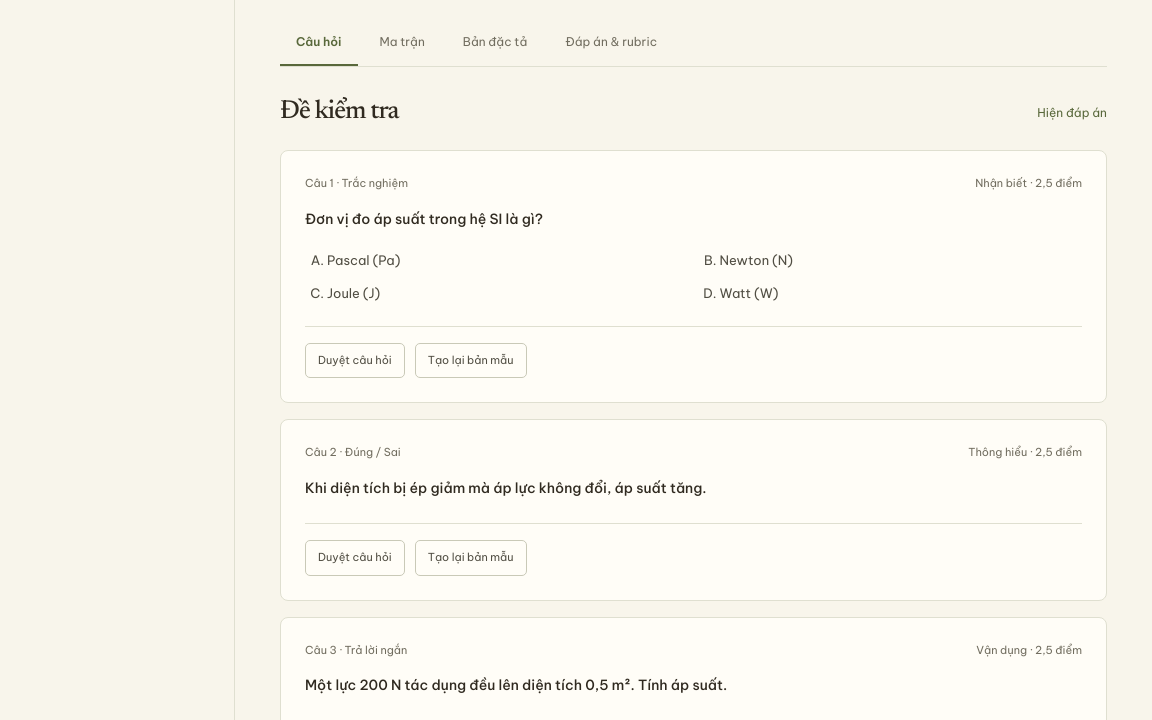
it: public demo workflow › replaces a regenerated question with another local sample and asks for approval again
(page scrolled)
Click the button "Duyệt câu hỏi" below "Joule (J)": (355, 360) [305,343,405,378]
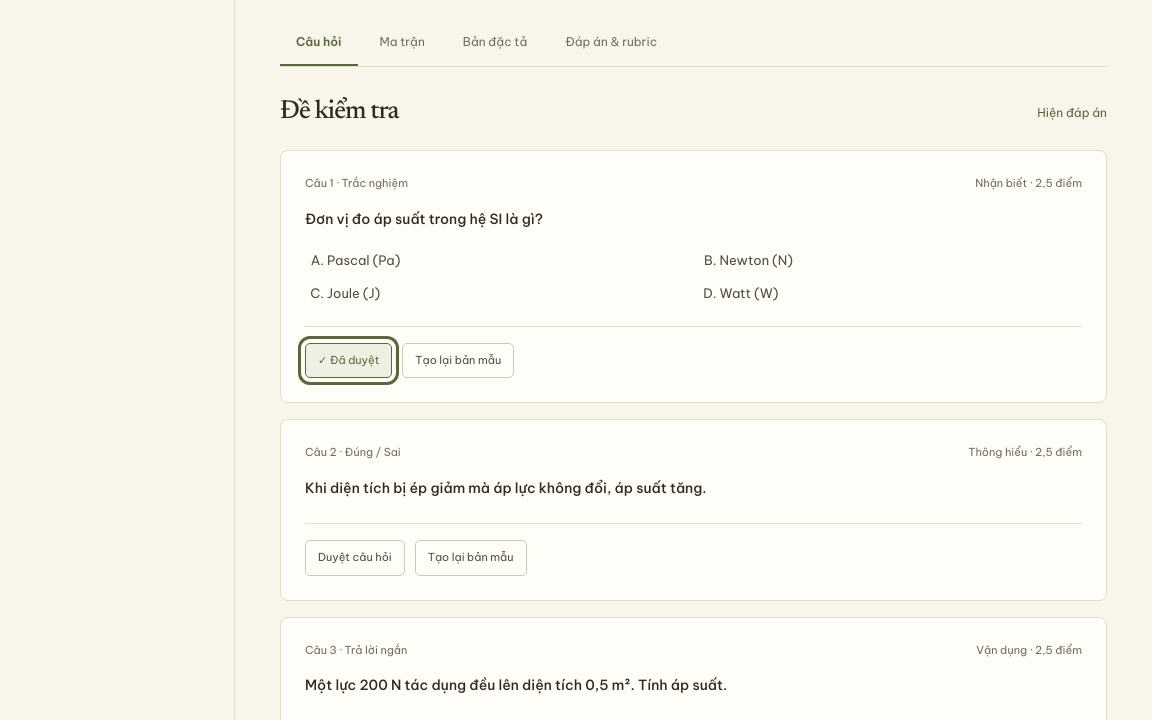
Click the button "Tạo lại bản mẫu" below "Joule (J)": (458, 360) [402,343,514,378]
(page scrolled)
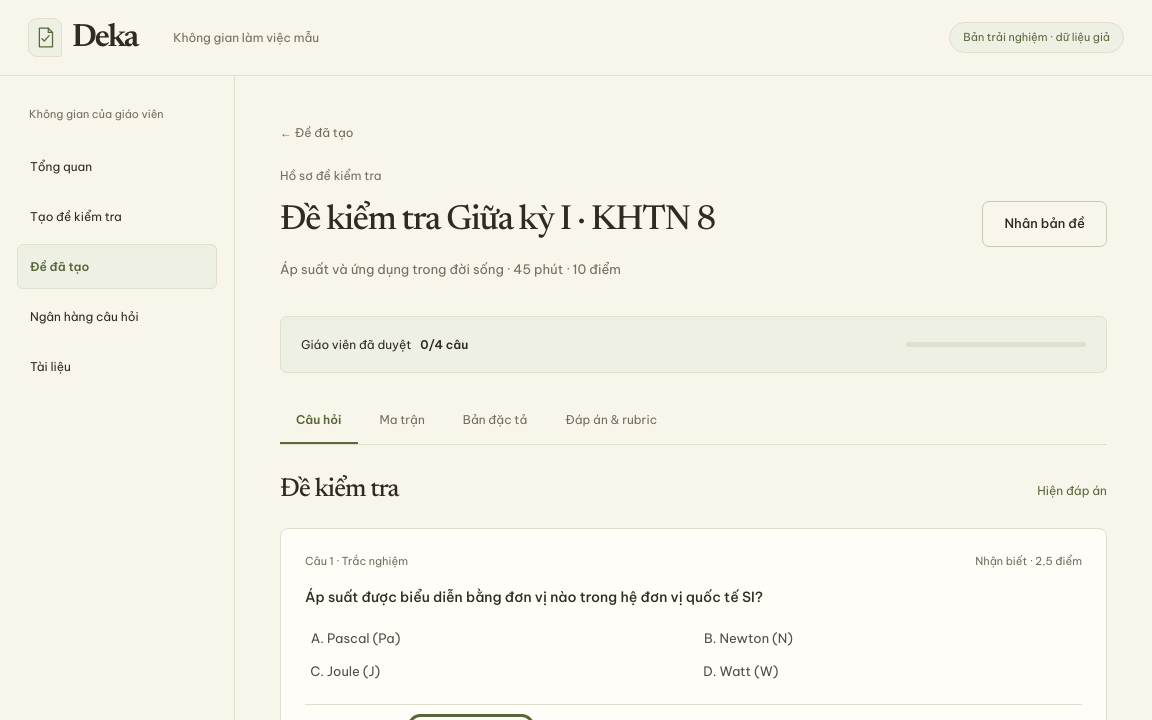
Now the heading "Đơn vị đo áp suất trong hệ SI là gì?" no longer shows "Đơn vị đo áp suất trong hệ SI là gì?"
Now the button "✓ Đã duyệt" is gone
Now the text "0/4 câu" is shown, box [420,337,468,352]
